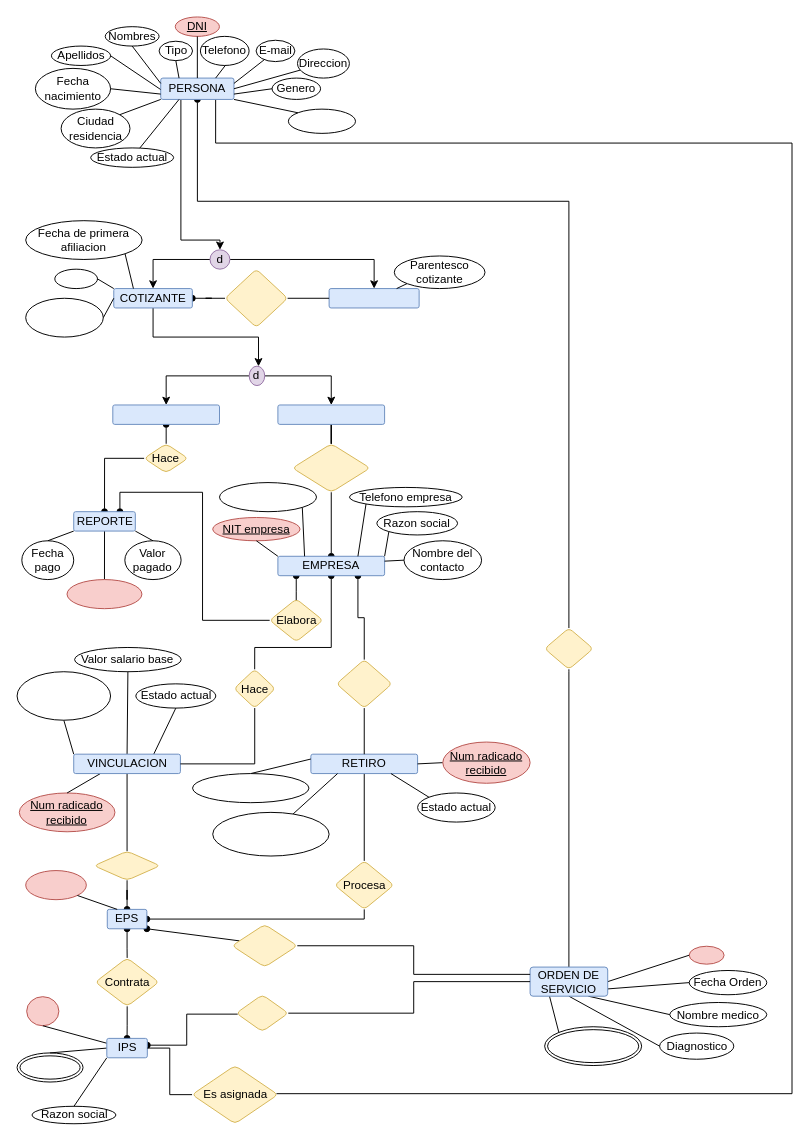
Image size: 810x1141. Some labels were removed from this diagram. The box of each missing label's shape, as (x1, y1, x2, y2) in pixels:
BENEFICIARIO: (328, 288, 419, 308)
Ciudad empresa: (219, 482, 317, 512)
Cod: (688, 945, 724, 964)
Cod EPS: (25, 870, 86, 900)
Cod reporte: (66, 579, 142, 609)
DEPENDIENTES: (277, 404, 385, 424)
Descripcion servicios: (544, 1026, 642, 1066)
Estado civil: (287, 108, 356, 133)
Expide: (235, 994, 288, 1032)
Fecha recibido reporte: (16, 671, 111, 720)
Fecha retiro reporte: (192, 773, 309, 803)
INDEPENDIENTES: (112, 404, 220, 424)
NIT: (26, 996, 59, 1026)
Num radicado comunicacion: (212, 811, 329, 856)
Puede tener: (224, 268, 288, 327)
Rango salarial: (25, 297, 103, 337)
Recibe: (544, 627, 593, 669)
Registra: (231, 923, 297, 967)
Reporta: (336, 659, 392, 708)
Salario: (54, 268, 97, 289)
Servicios: (16, 1052, 83, 1082)
Tiene: (291, 443, 370, 492)
Tramita: (93, 850, 160, 880)
